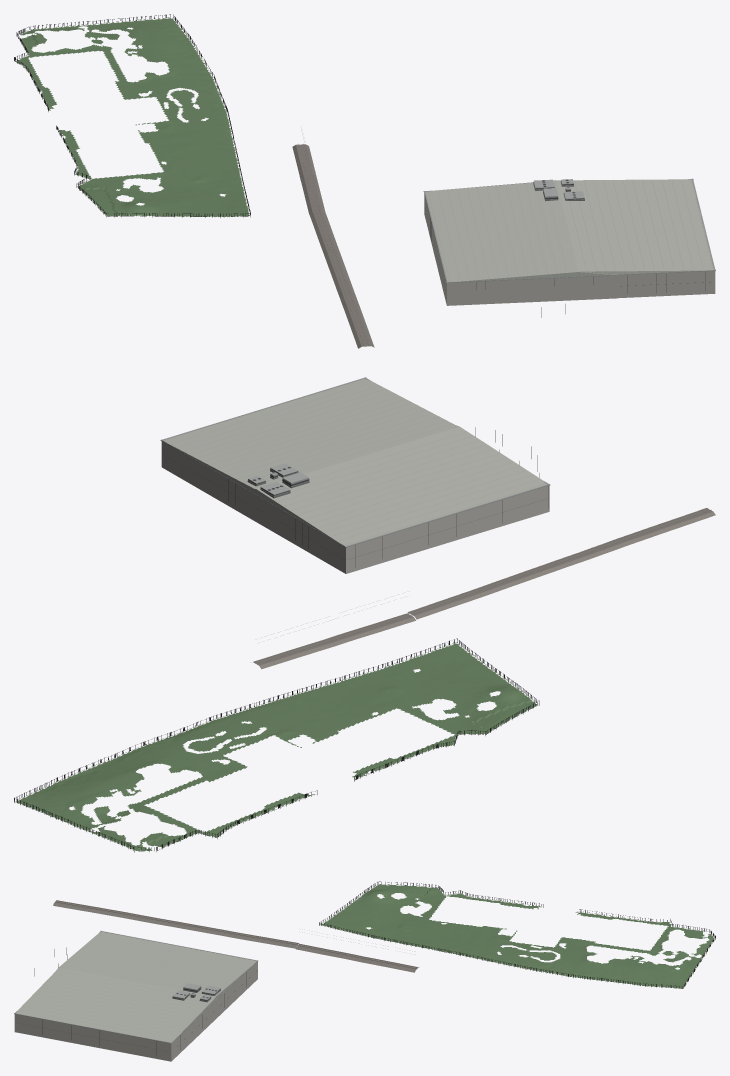
3 views of the same model, one above another, from view 1: azimuth 30°, elevation 25°; view 2: azimuth 150°, elevation 25°; view 3: azimuth 270°, elevation 25° (orthographic). The views are drawn at different scales.
Visible parts, largest first — view 1: Ice Arena L1 gable (ridge 120.18 m / eave 118.52 m; gable vs, Children's Center play-yard lawn (2020 ortho tone) (ne2), Ice Arena L1 main walls (LiDAR eave 118.52 m; outline UNVERI, Ballast 7 (758461316), KM IceArena membrane lap seams (ridge-parallel 3.05 m; spaci, Children's Center play-yard picket fence (OSM 313031573; bla, KM IceArena wall-top metal coping (profile UNVERIFIED), KM IceArena RTU A condensing unit (cells x-72..-67, y664..66; view 2: Ice Arena L1 gable (ridge 120.18 m / eave 118.52 m; gable vs, Children's Center play-yard lawn (2020 ortho tone) (ne2), Ice Arena L1 main walls (LiDAR eave 118.52 m; outline UNVERI, Ballast 7 (758461316), KM IceArena membrane lap seams (ridge-parallel 3.05 m; spaci, Children's Center play-yard picket fence (OSM 313031573; bla, Rail 7 +0.72, KM IceArena wall-top metal coping (profile UNVERIFIED), KM IceArena RTU A condensing unit (cells x-72..-67, y664..66; view 3: Ice Arena L1 gable (ridge 120.18 m / eave 118.52 m; gable vs, Children's Center play-yard lawn (2020 ortho tone) (ne2), Ice Arena L1 main walls (LiDAR eave 118.52 m; outline UNVERI, Ballast 7 (758461316), KM IceArena membrane lap seams (ridge-parallel 3.05 m; spaci, Children's Center play-yard picket fence (OSM 313031573; bla, Rail 7 +0.72, KM IceArena wall-top metal coping (profile UNVERIFIED), KM IceArena RTU A condensing unit (cells x-72..-67, y664..66.
Part boxes in pixels (<box>): Ice Arena L1 gable (ridge 120.18 m / eave 118.52 m; gable vs: <box>426,179,713,281</box>; Children's Center play-yard lawn (2020 ortho tone) (ne2): <box>16,18,249,217</box>; Ice Arena L1 main walls (LiDAR eave 118.52 m; outline UNVERI: <box>424,179,715,305</box>; Ballast 7 (758461316): <box>292,144,374,348</box>; KM IceArena membrane lap seams (ridge-parallel 3.05 m; spaci: <box>428,180,713,281</box>; Children's Center play-yard picket fence (OSM 313031573; bla: <box>14,14,250,217</box>; KM IceArena wall-top metal coping (profile UNVERIFIED): <box>423,178,715,283</box>; KM IceArena RTU A condensing unit (cells x-72..-67, y664..66: <box>533,179,584,201</box>; Ice Arena L1 gable (ridge 120.18 m / eave 118.52 m; gable vs: <box>164,379,547,545</box>; Children's Center play-yard lawn (2020 ortho tone) (ne2): <box>16,643,537,851</box>; Ice Arena L1 main walls (LiDAR eave 118.52 m; outline UNVERI: <box>161,378,549,573</box>; Ballast 7 (758461316): <box>253,508,715,669</box>; KM IceArena membrane lap seams (ridge-parallel 3.05 m; spaci: <box>164,379,545,544</box>; Children's Center play-yard picket fence (OSM 313031573; bla: <box>14,638,539,852</box>; Rail 7 +0.72: <box>254,508,711,664</box>; KM IceArena wall-top metal coping (profile UNVERIFIED): <box>160,377,550,547</box>; KM IceArena RTU A condensing unit (cells x-72..-67, y664..66: <box>247,463,309,498</box>; Ice Arena L1 gable (ridge 120.18 m / eave 118.52 m; gable vs: <box>16,931,255,1042</box>; Children's Center play-yard lawn (2020 ortho tone) (ne2): <box>321,884,713,988</box>; Ice Arena L1 main walls (LiDAR eave 118.52 m; outline UNVERI: <box>14,931,257,1061</box>; Ballast 7 (758461316): <box>53,900,419,972</box>; KM IceArena membrane lap seams (ridge-parallel 3.05 m; spaci: <box>17,932,254,1042</box>; Children's Center play-yard picket fence (OSM 313031573; bla: <box>319,881,715,988</box>; Rail 7 +0.72: <box>55,900,417,968</box>; KM IceArena wall-top metal coping (profile UNVERIFIED): <box>14,930,258,1043</box>; KM IceArena RTU A condensing unit (cells x-72..-67, y664..66: <box>172,983,220,1002</box>.
Size of the model in its own units: 164 by 12.87 by 276.
